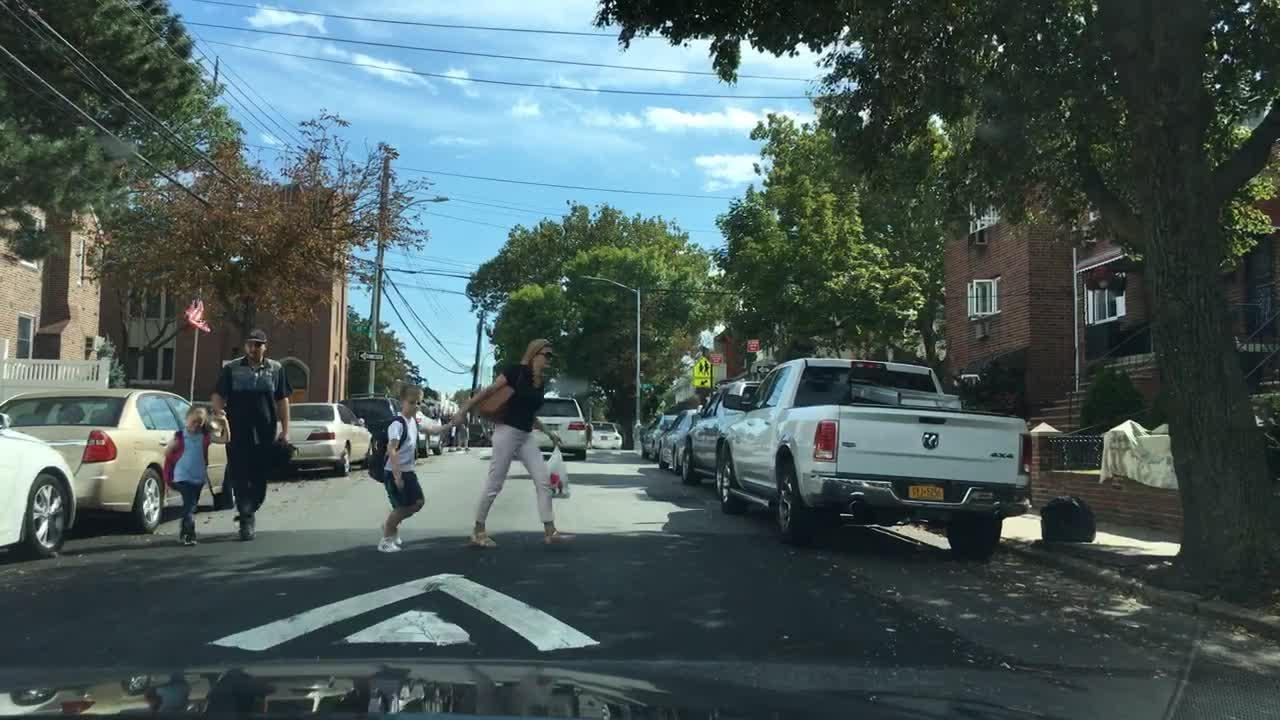ram: (920, 425, 944, 453)
